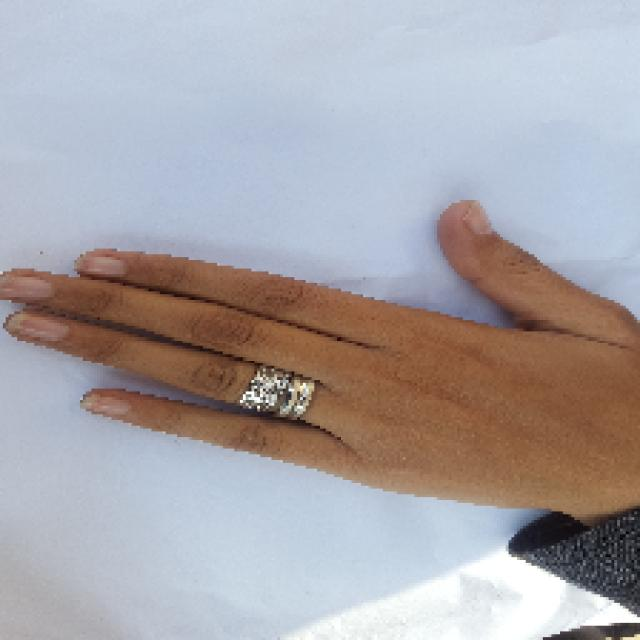Nail: (5, 312, 69, 340), (75, 252, 128, 279), (0, 275, 51, 302), (81, 396, 130, 417), (462, 201, 492, 234)
